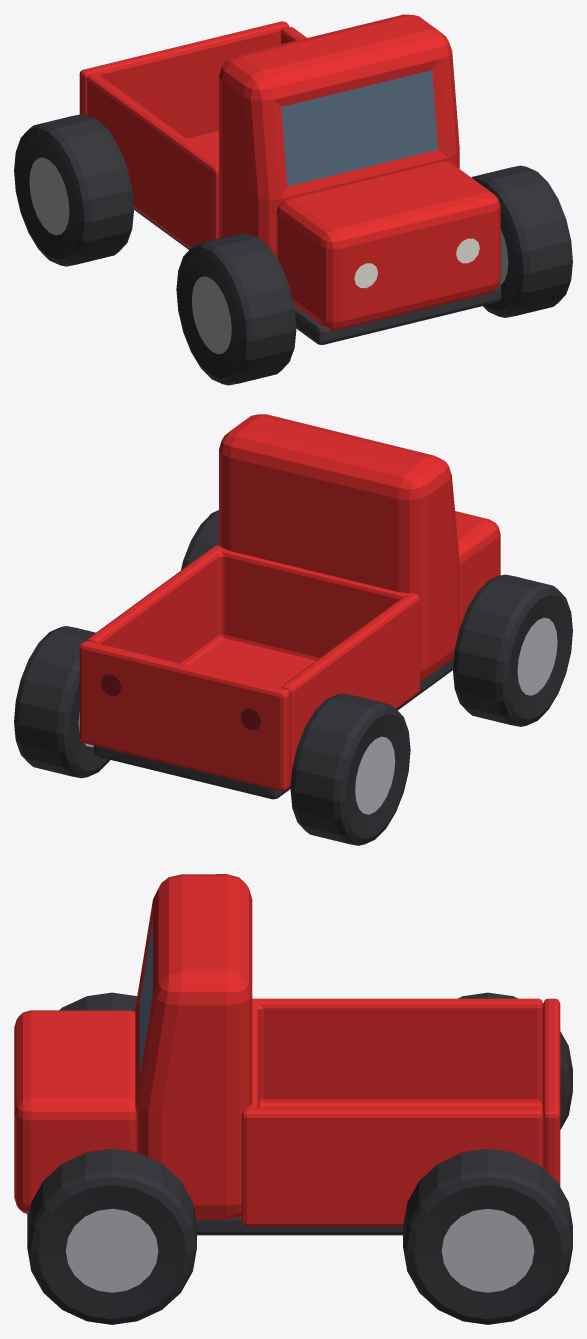
The model's file is ToyTruck.fbx.
3 renders of one model, top to bottom at view 1: azimuth 30°, elevation 25°; view 2: azimuth 150°, elevation 25°; view 3: azimuth 270°, elevation 25°, orthographic. The views are drawn at different scales.
Parts seen in each view (by area): view 1: Truck_Body, Truck_Wheel_FR, Truck_Wheel_RR, Truck_Wheel_FL, Truck_Tailgate; view 2: Truck_Body, Truck_Tailgate, Truck_Wheel_RR, Truck_Wheel_FR, Truck_Wheel_RL, Truck_Wheel_FL; view 3: Truck_Body, Truck_Wheel_FL, Truck_Wheel_RL, Truck_Tailgate, Truck_Wheel_RR, Truck_Wheel_FR.
Part boxes in pixels (<box>): Truck_Body: <box>87,14,501,344</box>; Truck_Wheel_FR: <box>176,233,296,385</box>; Truck_Wheel_RR: <box>14,114,133,266</box>; Truck_Wheel_FL: <box>471,165,572,317</box>; Truck_Tailgate: <box>79,21,289,138</box>; Truck_Body: <box>87,414,500,799</box>; Truck_Tailgate: <box>79,641,289,791</box>; Truck_Wheel_RR: <box>290,693,410,845</box>; Truck_Wheel_FR: <box>453,574,572,726</box>; Truck_Wheel_RL: <box>14,626,109,778</box>; Truck_Wheel_FL: <box>181,510,218,569</box>; Truck_Body: <box>14,874,543,1235</box>; Truck_Wheel_FL: <box>27,1148,196,1324</box>; Truck_Wheel_RL: <box>403,1148,572,1324</box>; Truck_Tailgate: <box>543,998,560,1186</box>; Truck_Wheel_RR: <box>458,992,572,1129</box>; Truck_Wheel_FR: <box>59,992,137,1011</box>.
Size of the model in its own units: 2.08 by 1.62 by 2.63.
